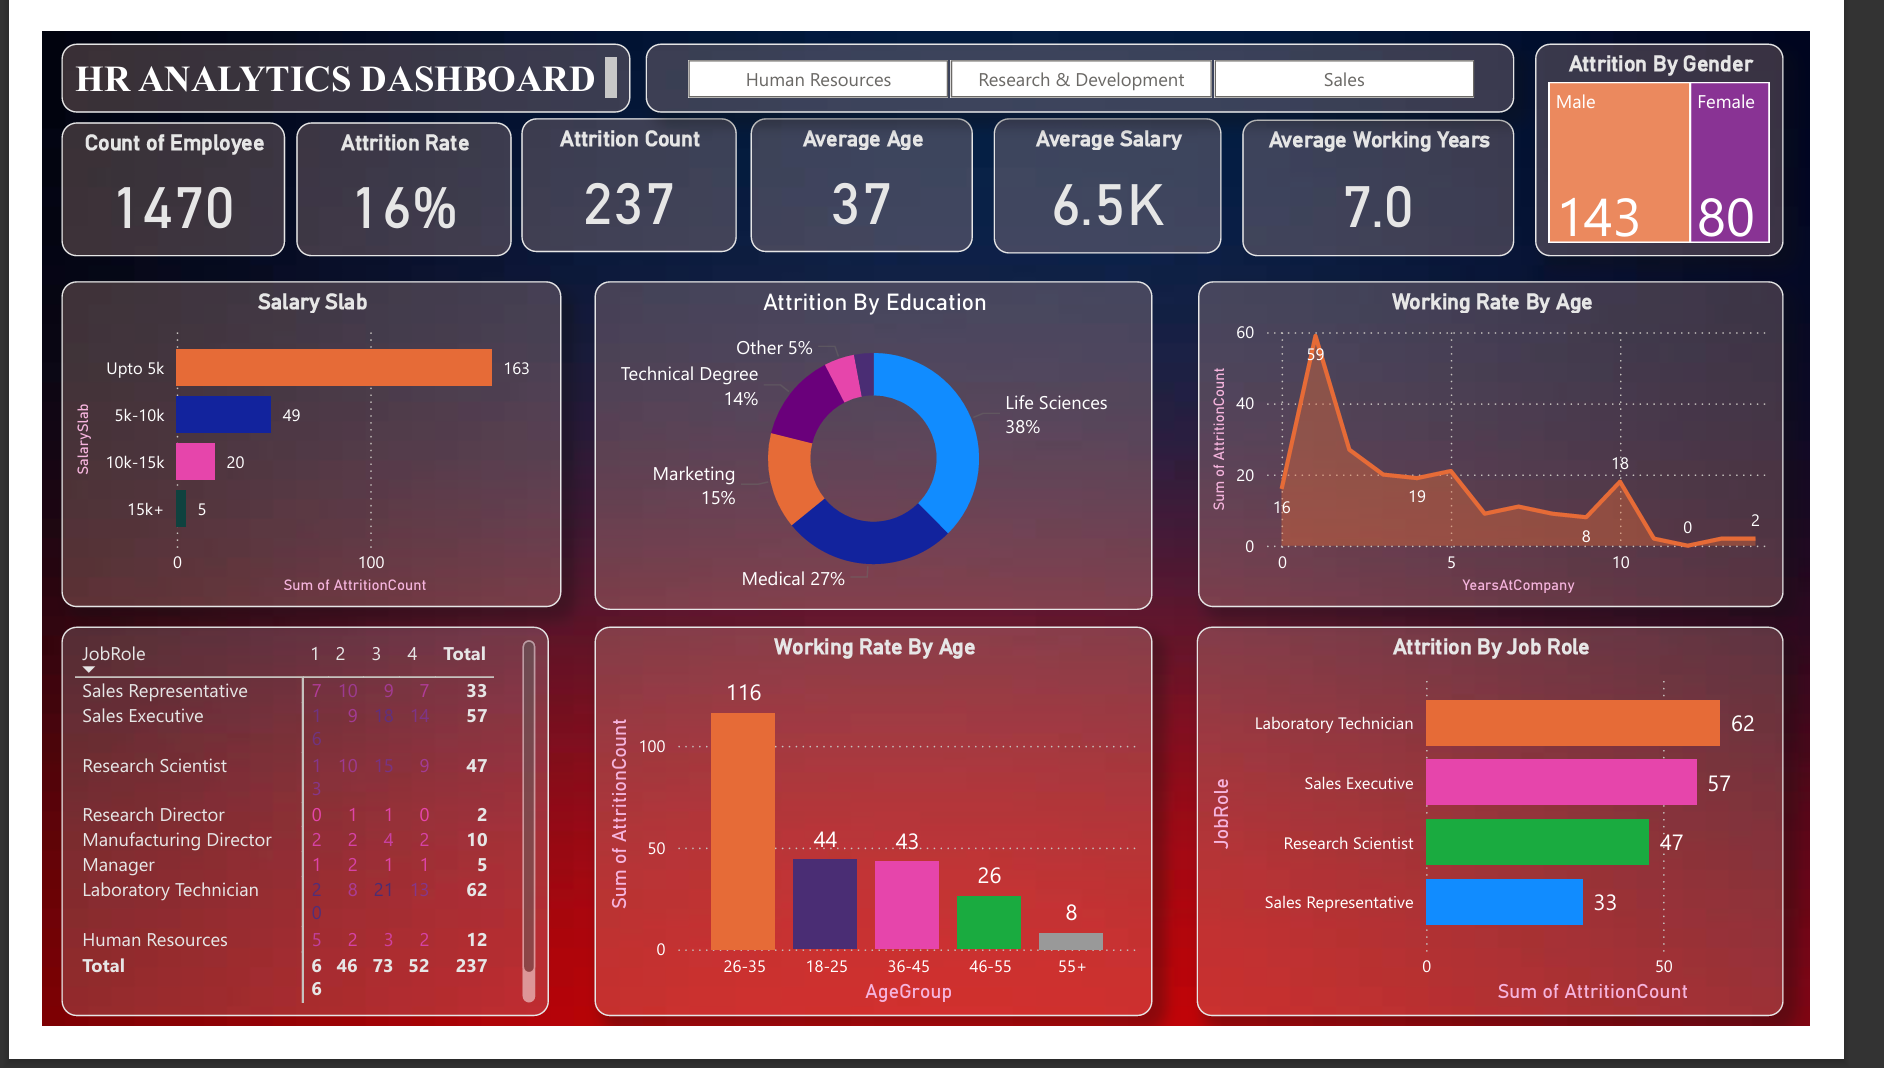

What the dashboard file says about the page in this screenshot:
{"tool":"powerbi","page":{"name":"HR Analytics ","canvas":[1280,720],"ordinal":0},"visuals":[{"type":"textbox","box":[13.8,8.8,412.5,50],"z":0},{"type":"card","title":"Count of Employee","fields":{"Values":["CountNonNull(HR_Analytics.EmpID)"]},"box":[13.8,76.2,162.5,96.2],"z":1000},{"type":"card","title":"Attrition Rate","fields":{"Values":["HR_Analytics.AttritionRate"]},"box":[191.2,76.2,147.5,96.2],"z":2000},{"type":"card","title":"Attrition Count","fields":{"Values":["Sum(HR_Analytics.AttritionCount)"]},"box":[347.5,75,155,97.5],"z":3000},{"type":"card","title":"Average Age","fields":{"Values":["Avg(HR_Analytics.Age)"]},"box":[512.5,75,161.2,97.5],"z":4000},{"type":"card","title":"Average Salary","fields":{"Values":["Avg(HR_Analytics.MonthlyIncome)"]},"box":[687.5,75,165,98.8],"z":5000},{"type":"card","title":"Average Working Years","fields":{"Values":["Avg(HR_Analytics.YearsAtCompany)"]},"box":[868.8,73.8,197.5,98.8],"z":6000},{"type":"columnChart","title":"Working Rate By Age","fields":{"Category":["HR_Analytics.AgeGroup"],"Y":["Sum(HR_Analytics.AttritionCount)"]},"box":[400,431,404,282],"z":7000},{"type":"donutChart","title":"Attrition By Education","fields":{"Category":["HR_Analytics.EducationField"],"Y":["Sum(HR_Analytics.AttritionCount)"]},"box":[400,190,403.8,228.8],"z":8000},{"type":"pivotTable","fields":{"Rows":["HR_Analytics.JobRole"],"Columns":["HR_Analytics.JobSatisfaction"],"Values":["Sum(HR_Analytics.AttritionCount)"]},"box":[13.8,431.2,362.5,281.2],"z":9000},{"type":"clusteredBarChart","title":"Salary Slab","fields":{"Category":["HR_Analytics.SalarySlab"],"Y":["Sum(HR_Analytics.AttritionCount)"]},"box":[13.8,190,362.5,227.5],"z":10000},{"type":"clusteredBarChart","title":"Attrition By Job Role","fields":{"Y":["Sum(HR_Analytics.AttritionCount)"],"Category":["HR_Analytics.JobRole"]},"box":[836.2,431.2,425,281.2],"z":11000},{"type":"areaChart","title":"Working Rate By Age","fields":{"Category":["HR_Analytics.YearsAtCompany"],"Y":["Sum(HR_Analytics.AttritionCount)"]},"box":[837.5,190,423.8,227.5],"z":12000},{"type":"treemap","title":"Attrition By Gender","fields":{"Values":["Sum(HR_Analytics.AttritionCount)"],"Group":["HR_Analytics.Gender"]},"box":[1081,9,180,154],"z":13000},{"type":"slicer","fields":{"Values":["HR_Analytics.Department"]},"box":[437.5,8.8,628.8,50],"z":14000}]}

Visuals, with their boxes in screenshot pixels (x1, y1, x2, y2), scaled from the page's 1280x720 canvas onto the 1884x1068 screenshot:
textbox: bbox(20, 13, 627, 87)
"Count of Employee" card: bbox(20, 113, 259, 256)
"Attrition Rate" card: bbox(281, 113, 499, 256)
"Attrition Count" card: bbox(511, 111, 740, 256)
"Average Age" card: bbox(754, 111, 992, 256)
"Average Salary" card: bbox(1012, 111, 1255, 258)
"Average Working Years" card: bbox(1279, 109, 1569, 256)
"Working Rate By Age" columnChart: bbox(589, 639, 1183, 1058)
"Attrition By Education" donutChart: bbox(589, 282, 1183, 621)
pivotTable - HR_Analytics.JobRole x HR_Analytics.JobSatisfaction: bbox(20, 640, 554, 1057)
"Salary Slab" clusteredBarChart: bbox(20, 282, 554, 619)
"Attrition By Job Role" clusteredBarChart: bbox(1231, 640, 1856, 1057)
"Working Rate By Age" areaChart: bbox(1233, 282, 1856, 619)
"Attrition By Gender" treemap: bbox(1591, 13, 1856, 242)
slicer - HR_Analytics.Department: bbox(644, 13, 1569, 87)
